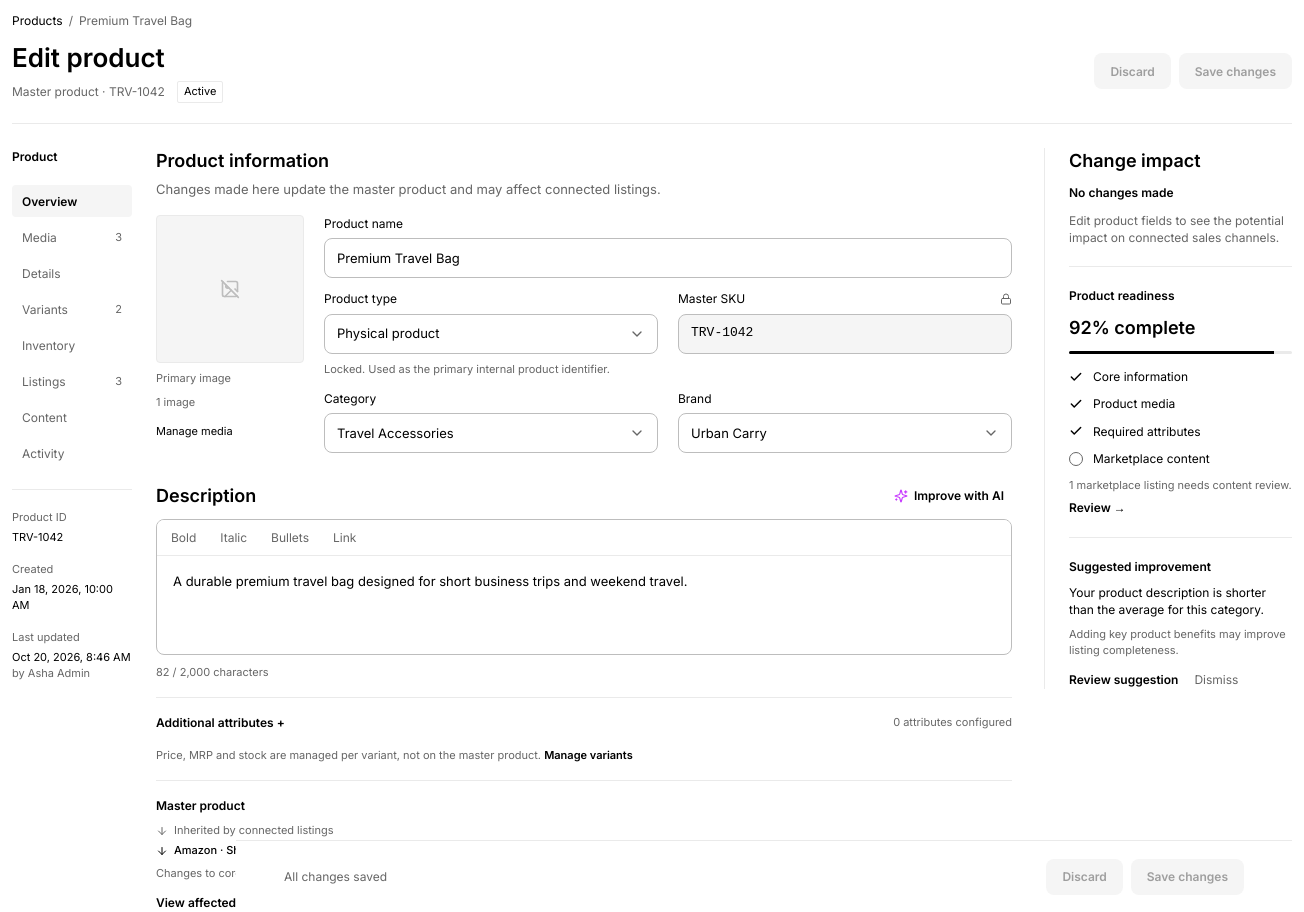
EditProductPage › previews the change impact (debounced, one request) and renders channels and notes
This screenshot has width=1304, height=912.
Type " Plus" into the field labelled "Product name" at (668, 258), box x1=337 y1=249 x2=999 y2=268
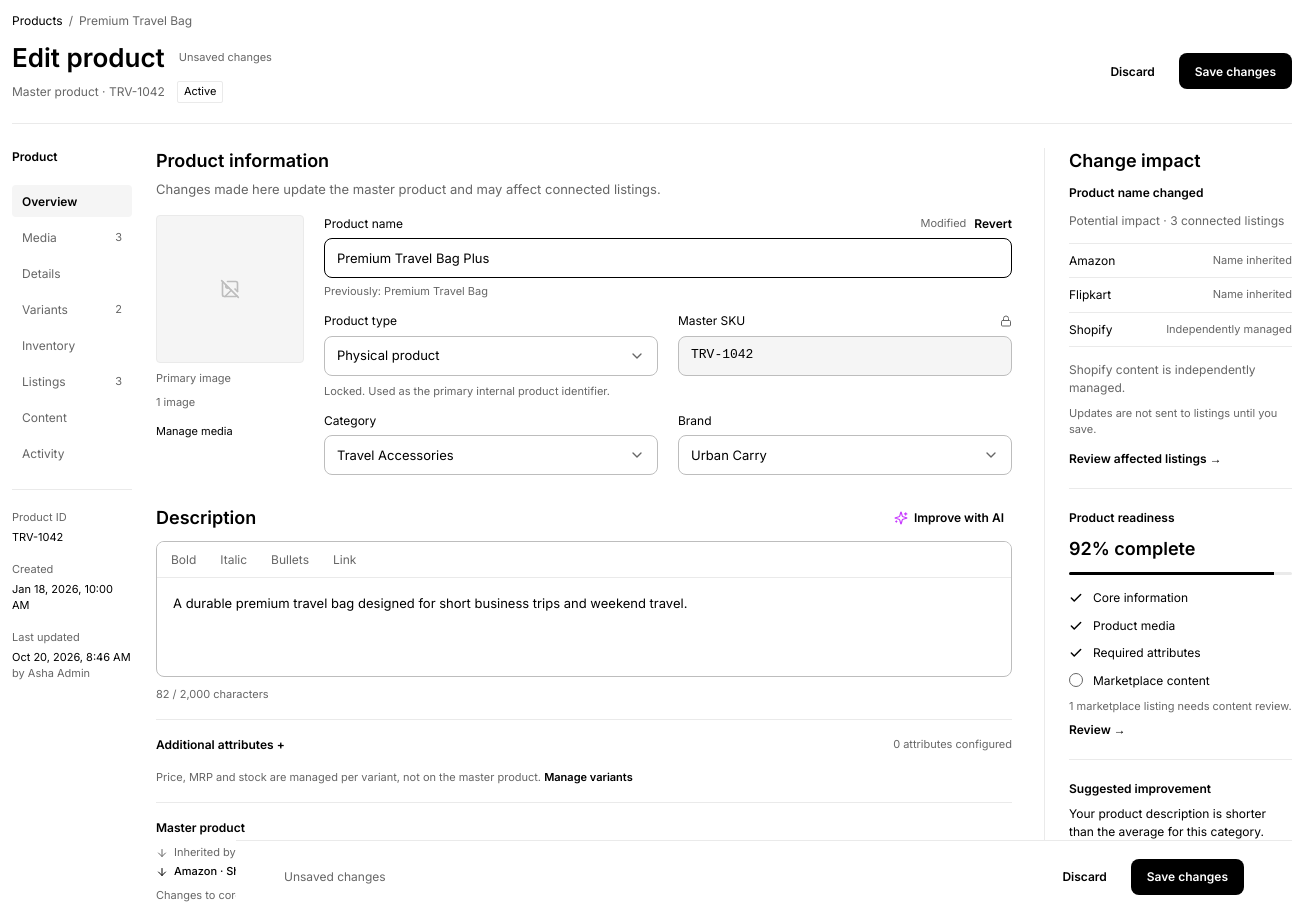
Expected: the text "Product name changed" is shown, x1=1069 y1=185 x2=1204 y2=200
Expected: the text "Potential impact · 3 connected listings" is shown, x1=1069 y1=212 x2=1292 y2=229
Expected: the text "Amazon" below "Potential impact ·" is shown, x1=1069 y1=253 x2=1115 y2=268
